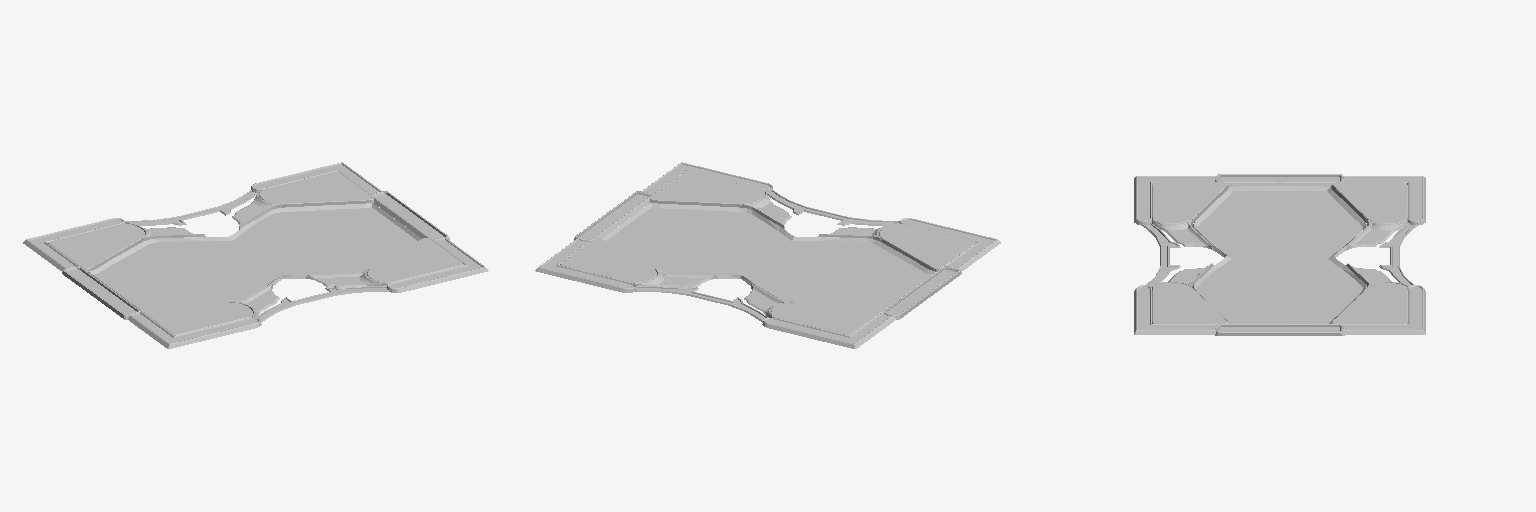
Rendered from 3D_Spelbord PLACEHOLDER.obj.
3 renders of one model, left to right at view 1: azimuth 30°, elevation 25°; view 2: azimuth 150°, elevation 25°; view 3: azimuth 270°, elevation 25°, orthographic.
Parts seen in each view (by area): view 1: Map; view 2: Map; view 3: Map.
Part boxes in pixels (x1,y1,x2,y2): Map: (23,162,488,348); Map: (535,162,1000,348); Map: (1134,174,1425,335).
Bounding box in the file's own units: 13.68 × 0.2323 × 10.64.